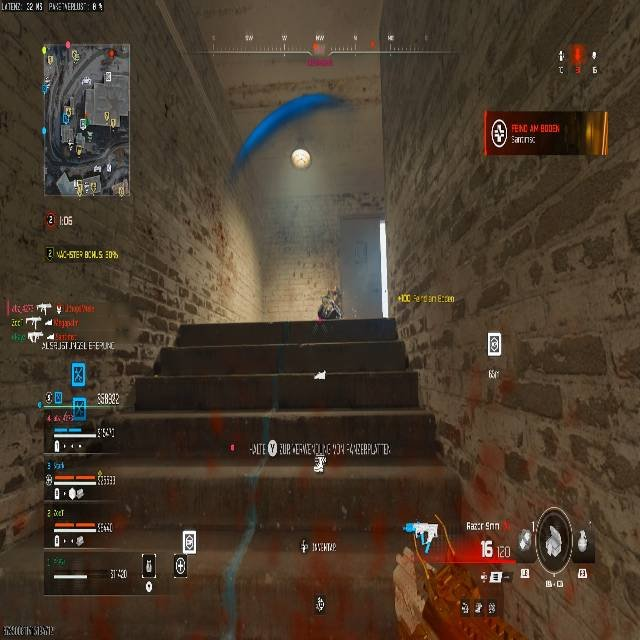player: (313, 288, 342, 335)
